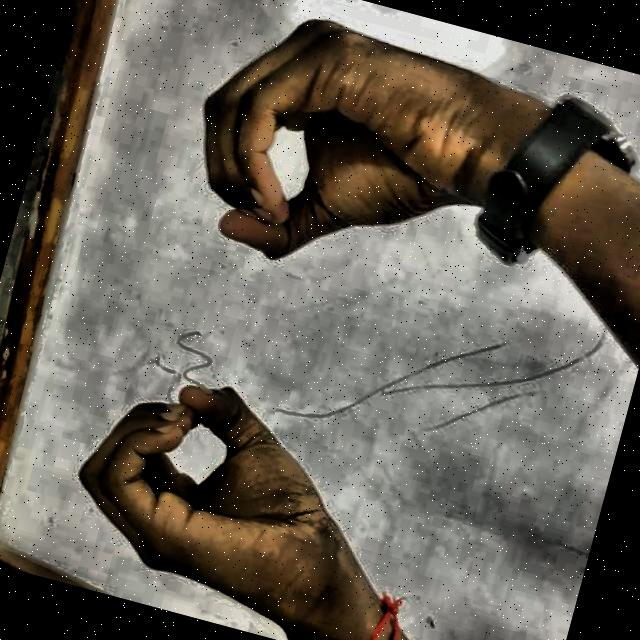Bisharga: (54, 0, 543, 640)
